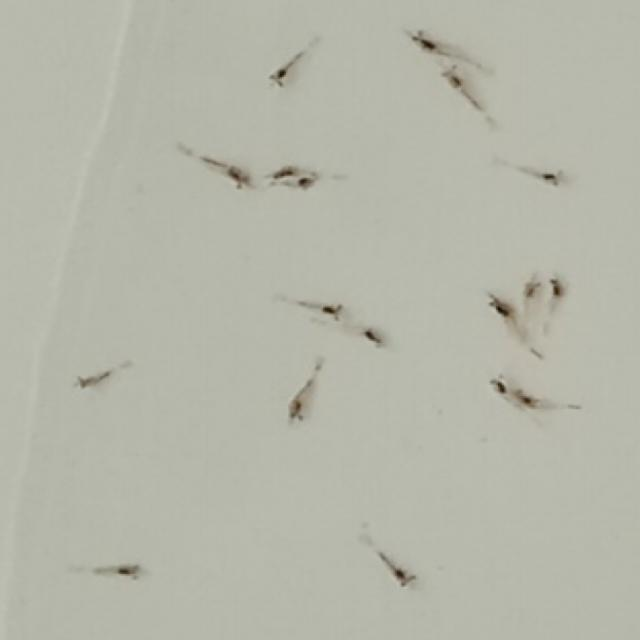shrimp-seed: (384, 554, 422, 592), (280, 391, 314, 428), (533, 162, 572, 192), (266, 56, 296, 93), (404, 26, 440, 55), (219, 161, 253, 191), (110, 555, 146, 583), (74, 367, 112, 393), (358, 322, 388, 354), (482, 288, 512, 320), (436, 60, 466, 88), (265, 157, 298, 182), (316, 297, 344, 325), (520, 273, 546, 301), (514, 384, 542, 410), (547, 276, 570, 302), (292, 170, 318, 192), (488, 369, 510, 395)
